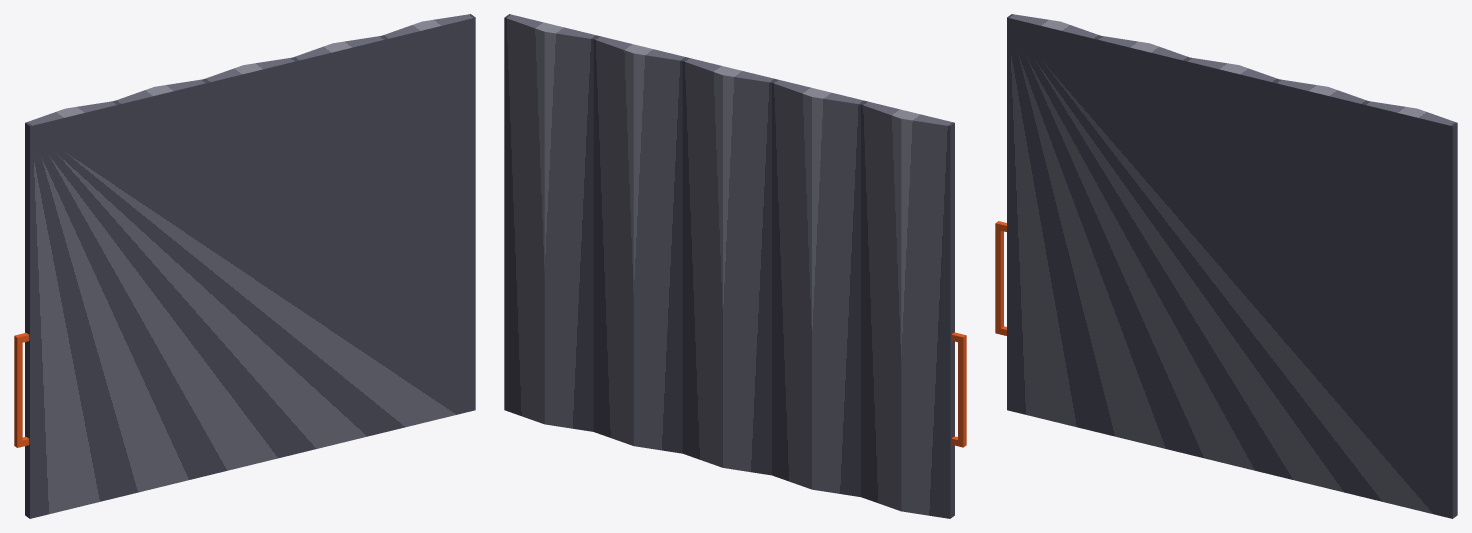
File: portonGalpon1.fbx
The picture shows the model from 3 angles, left to right: view 1: azimuth 30°, elevation 25°; view 2: azimuth 150°, elevation 25°; view 3: azimuth 330°, elevation 25°; orthographic projection.
Visible parts, largest first — view 1: portonGalpon1; view 2: portonGalpon1; view 3: portonGalpon1.
Boxes of the visible parts, x1,y1,x2,y2 form: portonGalpon1: (14,14,475,518); portonGalpon1: (504,14,966,518); portonGalpon1: (995,14,1457,518).
Size of the model in its own units: 960 by 787 by 33.96.
